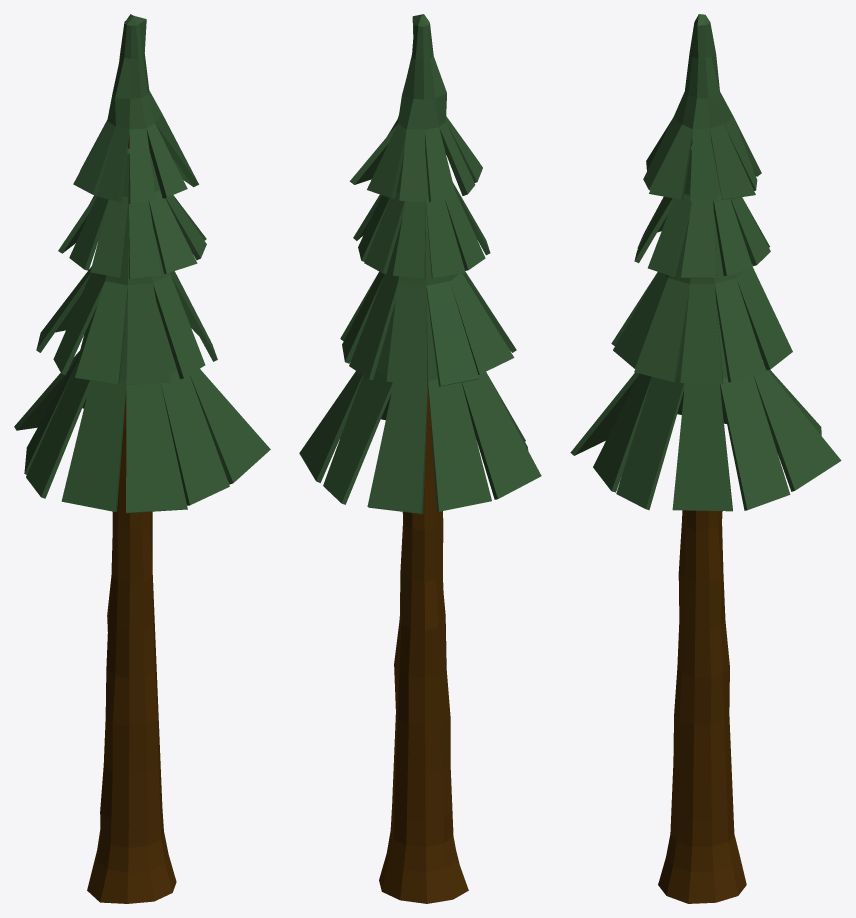
3 renders of one model, left to right at view 1: azimuth 30°, elevation 25°; view 2: azimuth 150°, elevation 25°; view 3: azimuth 270°, elevation 25°, orthographic.
Parts seen in each view (by area): view 1: Цилиндр.014; view 2: Цилиндр.014; view 3: Цилиндр.014.
Part boxes in pixels (x1=…): Цилиндр.014: x1=14, y1=14, x2=270, y2=903; Цилиндр.014: x1=299, y1=14, x2=541, y2=903; Цилиндр.014: x1=570, y1=14, x2=841, y2=903.
Bounding box in the file's own units: 8819 × 34081 × 9596.
